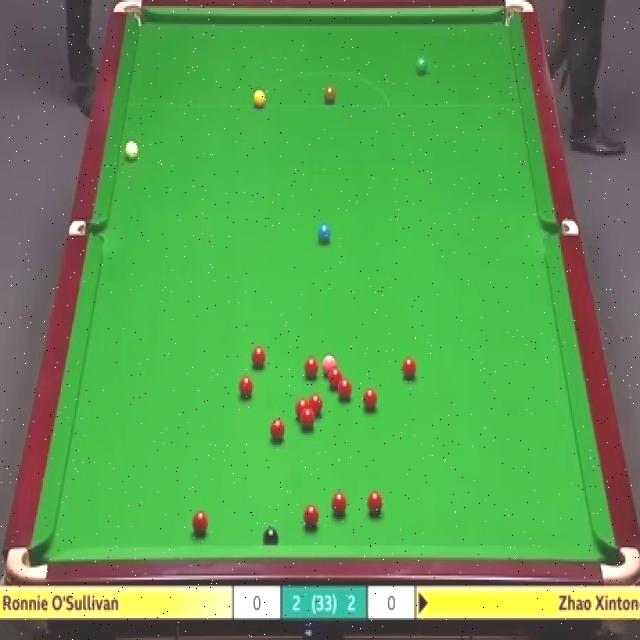black-ball: (265, 526, 282, 545)
blue-ball: (318, 224, 332, 242)
brown-ball: (324, 86, 337, 109)
green-ball: (416, 57, 426, 71)
pink-ball: (322, 354, 337, 374)
red-ball: (191, 510, 208, 535), (308, 394, 325, 419), (332, 489, 347, 517), (303, 505, 320, 529), (272, 418, 288, 442), (402, 354, 417, 378), (368, 492, 384, 514), (238, 378, 254, 398), (252, 346, 265, 370), (301, 409, 315, 430), (362, 390, 378, 408), (328, 367, 342, 387), (338, 381, 351, 402), (303, 357, 317, 376), (296, 399, 309, 418)
white-ball: (125, 140, 138, 160)
yellow-ball: (253, 89, 266, 109)
